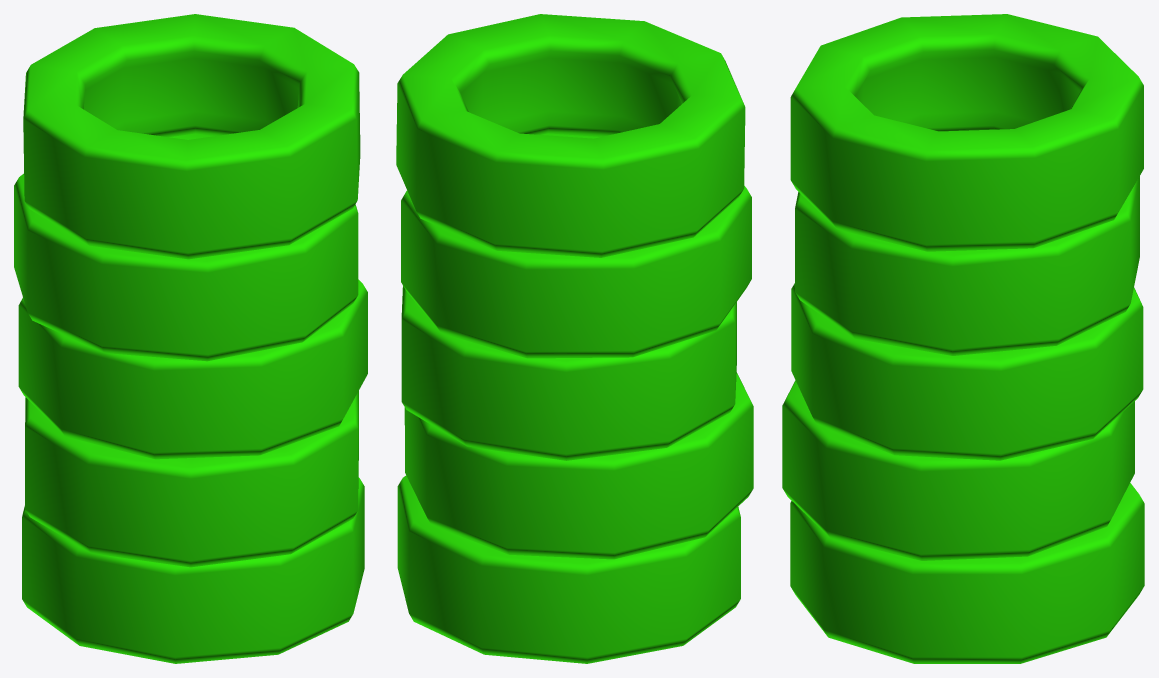
Rendered from Tire_Pile_02_Lod1.fbx.
3 renders of one model, left to right at view 1: azimuth 30°, elevation 25°; view 2: azimuth 150°, elevation 25°; view 3: azimuth 270°, elevation 25°, orthographic.
Parts seen in each view (by area): view 1: Tire_Pile_02_Lod1; view 2: Tire_Pile_02_Lod1; view 3: Tire_Pile_02_Lod1.
Boxes of the visible parts, box(x1,y1,x2,y2) form: Tire_Pile_02_Lod1: box(14, 14, 367, 663); Tire_Pile_02_Lod1: box(396, 14, 753, 663); Tire_Pile_02_Lod1: box(782, 14, 1144, 663).
Size of the model in its own units: 78.4 by 124 by 79.11.
